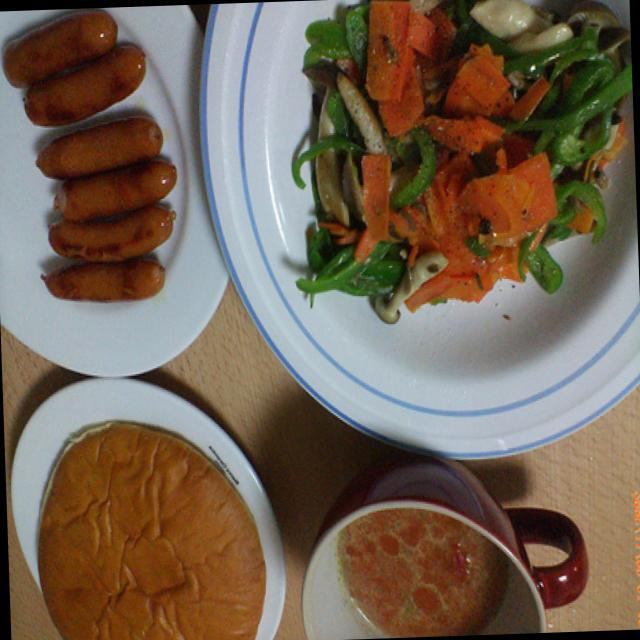Sausage: (12, 5, 180, 313)
